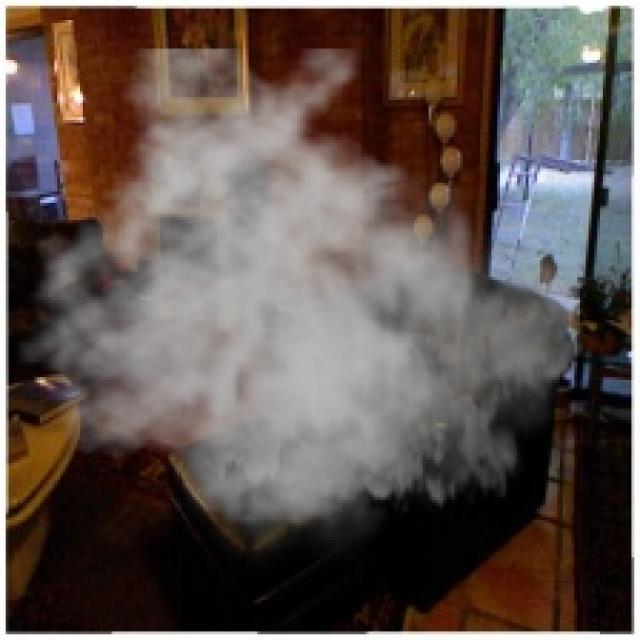smoke: (14, 49, 583, 577)
